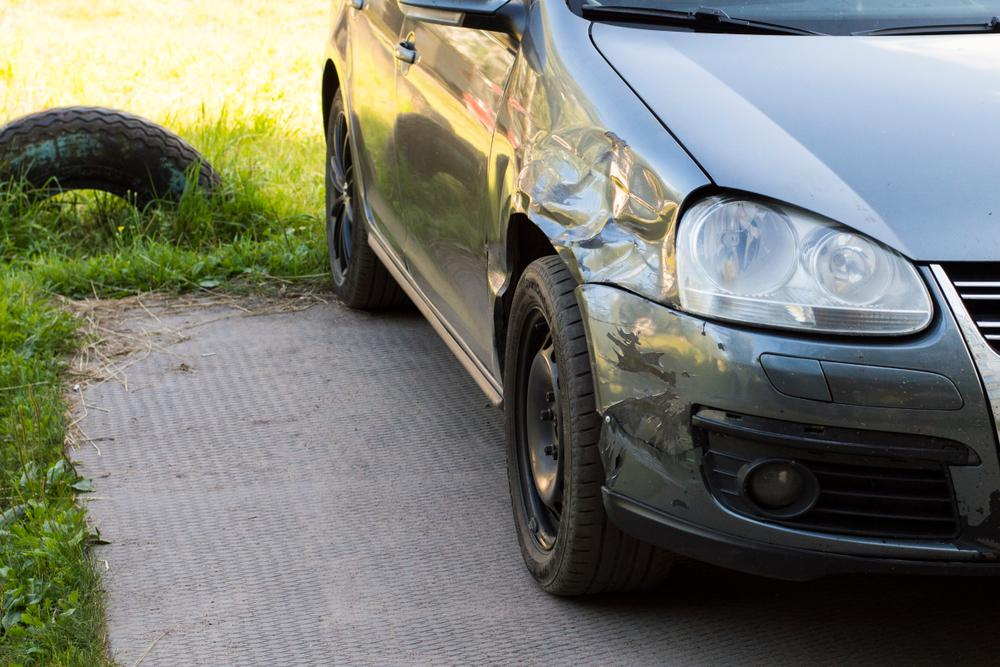dent: (521, 124, 674, 295)
scratch: (595, 324, 703, 510)
